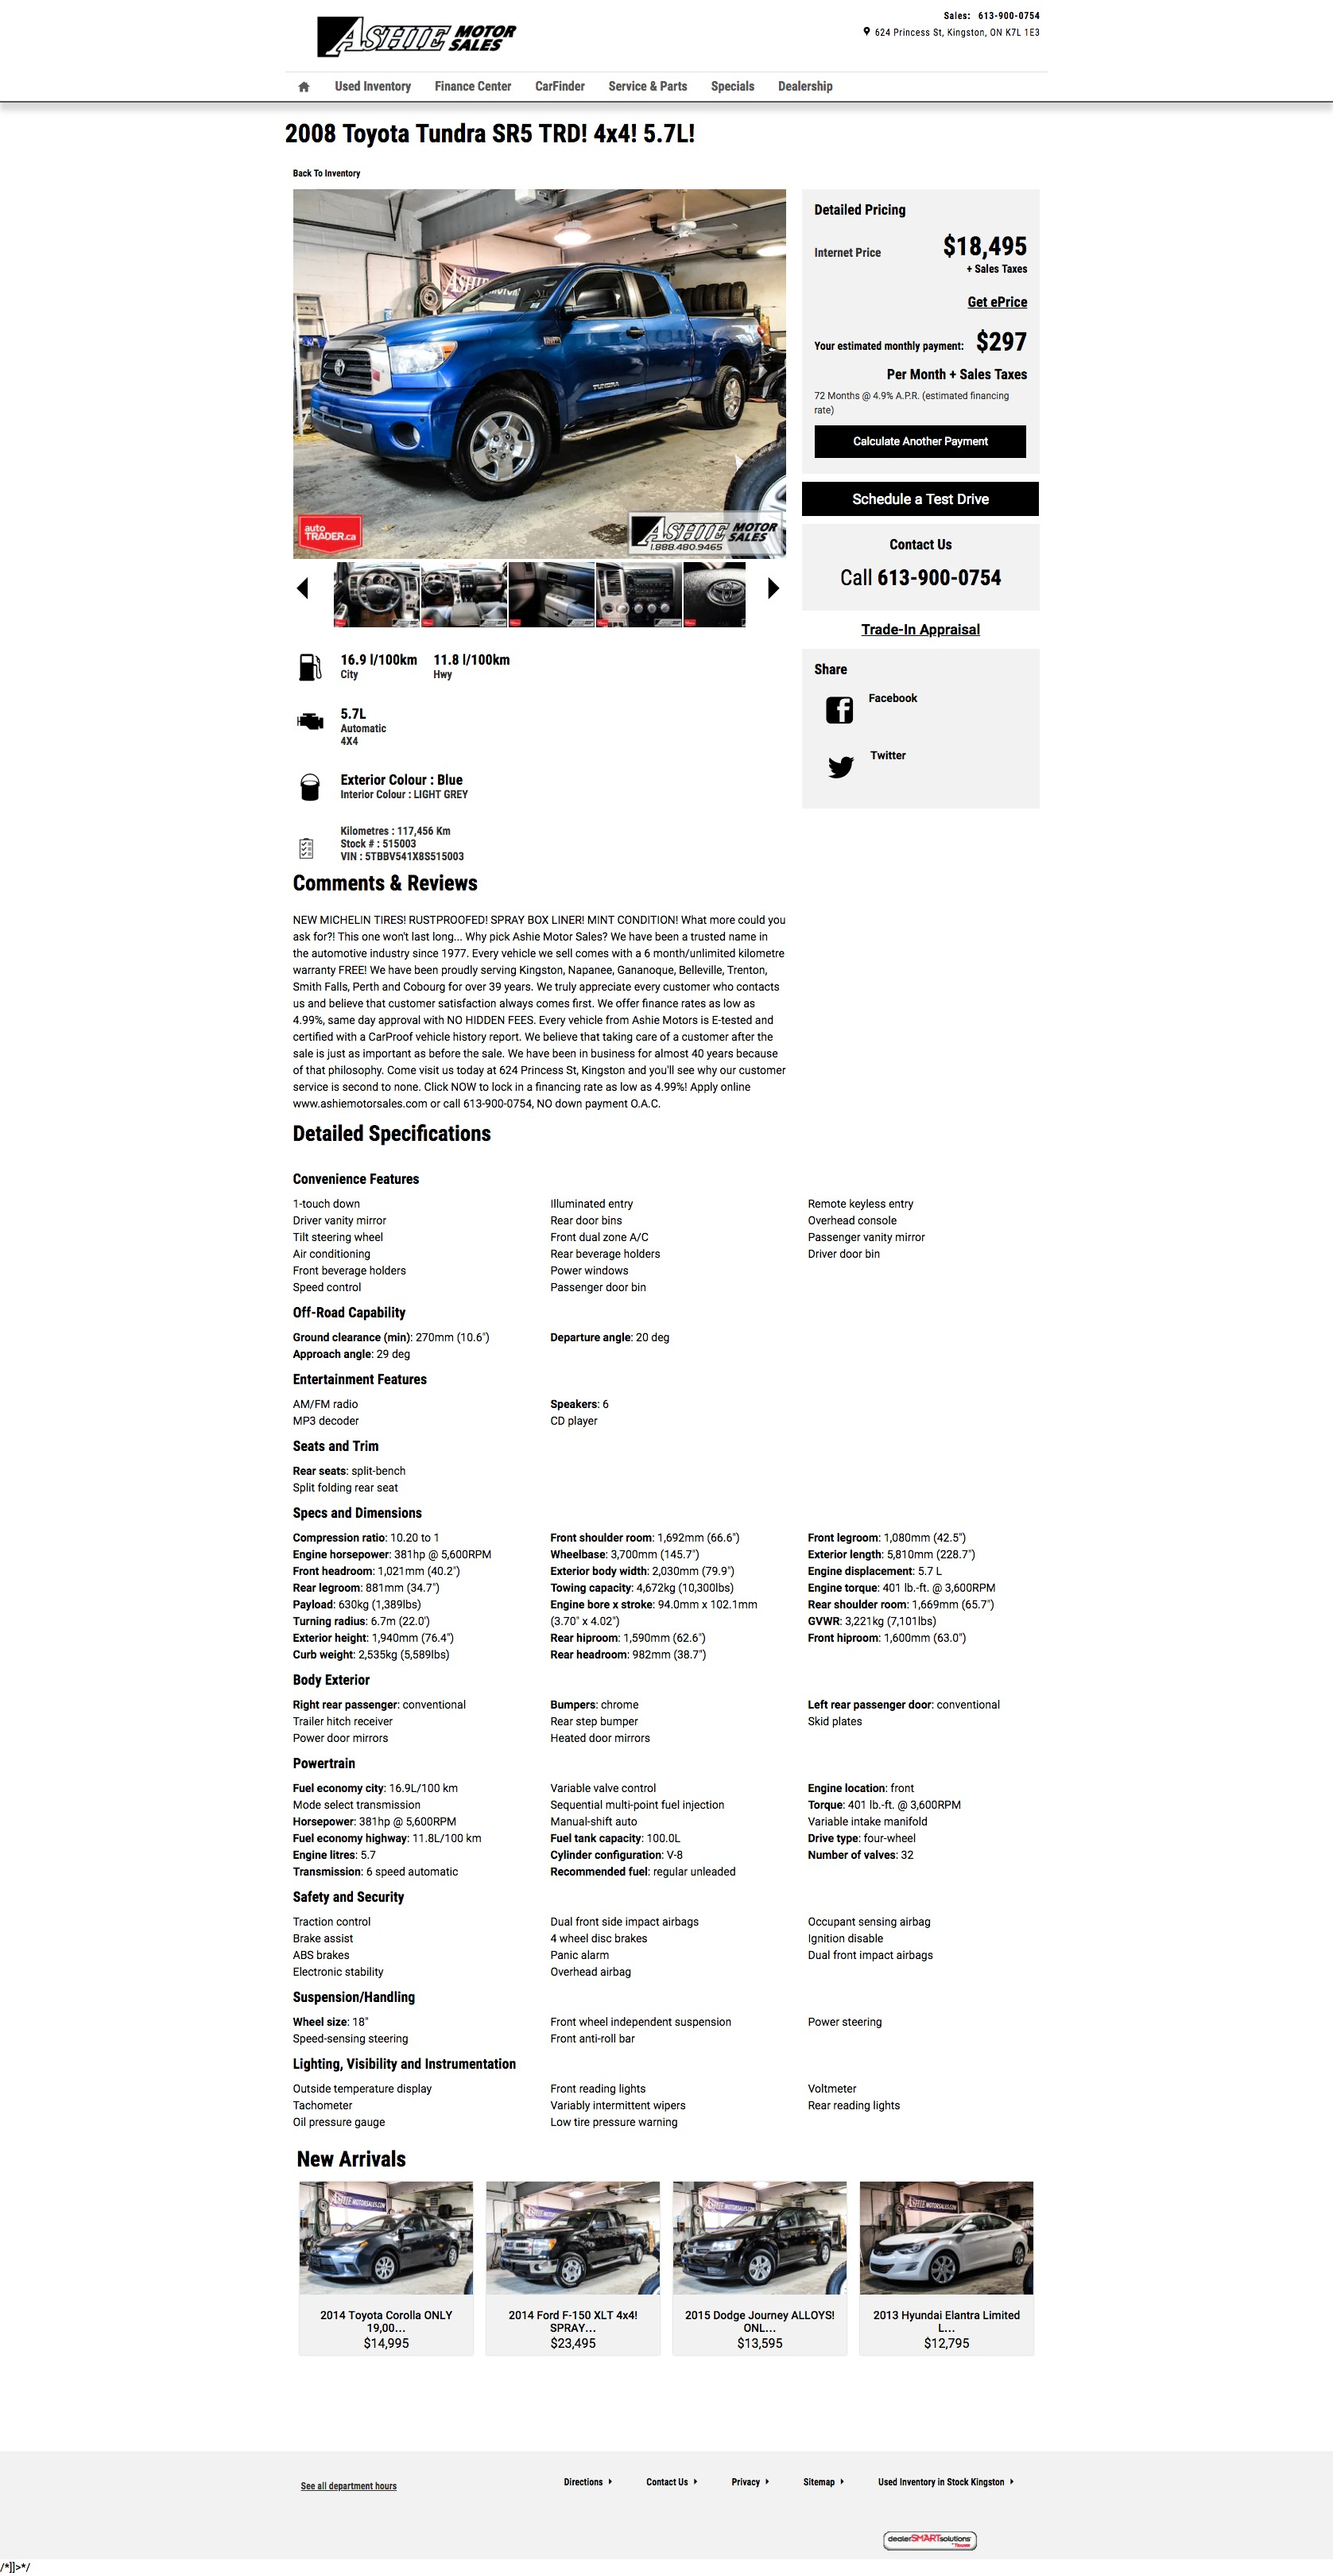car: (767, 578, 780, 600)
